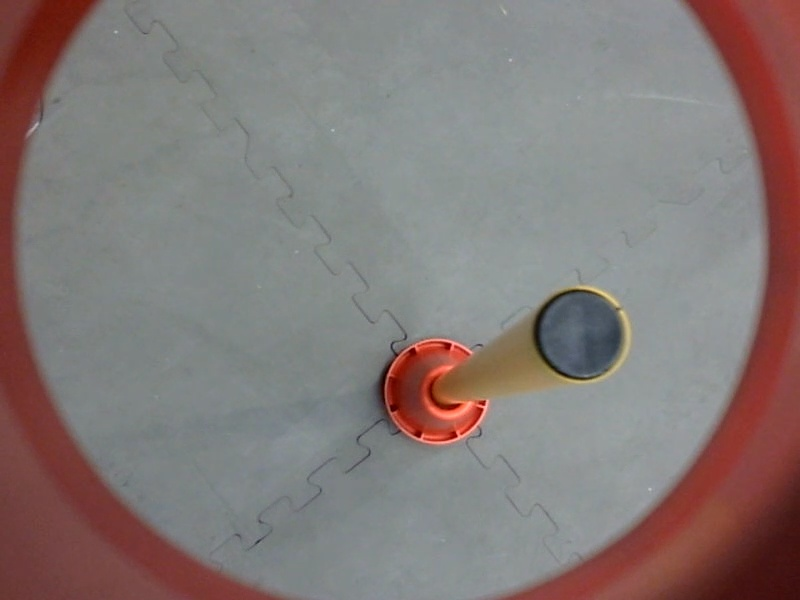tip: (526, 283, 641, 389)
